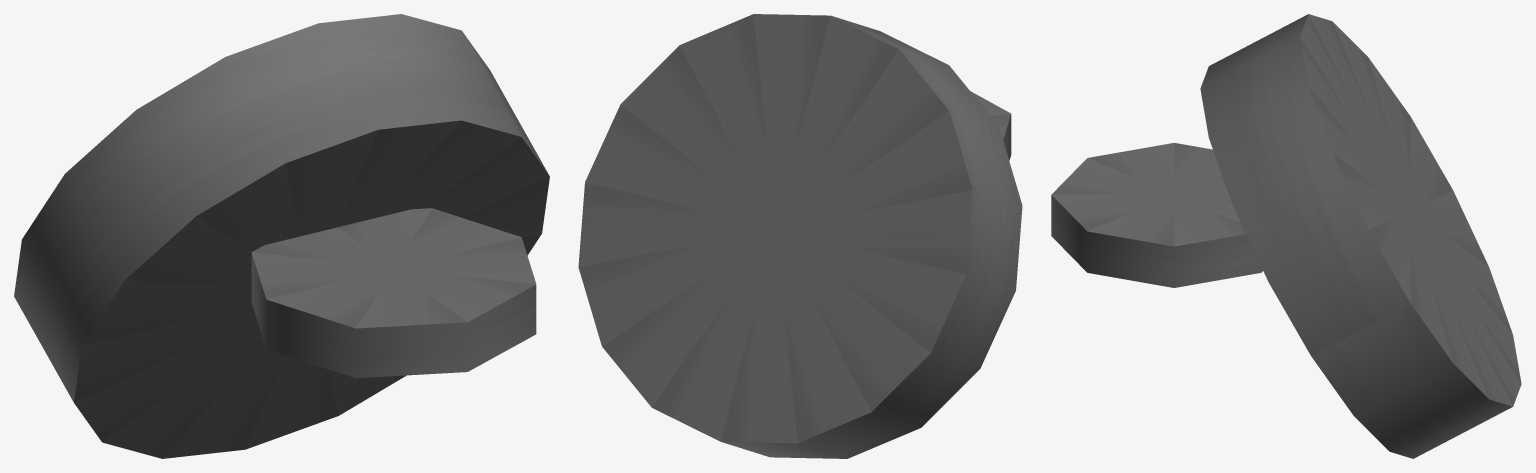
Rendered from mastarmcurve_6x2_c1_down.obj.
3 renders of one model, left to right at view 1: azimuth 30°, elevation 25°; view 2: azimuth 150°, elevation 25°; view 3: azimuth 270°, elevation 25°, orthographic. The views are drawn at different scales.
Visible parts, largest first — view 1: mastarm_6x2_c1_down; view 2: mastarm_6x2_c1_down; view 3: mastarm_6x2_c1_down.
Part boxes in pixels (x1,y1,x2,y2): mastarm_6x2_c1_down: [14, 14, 549, 458]; mastarm_6x2_c1_down: [578, 14, 1022, 458]; mastarm_6x2_c1_down: [1051, 14, 1521, 458].
Size of the model in its own units: 0.7208 by 0.7179 by 0.7652.
